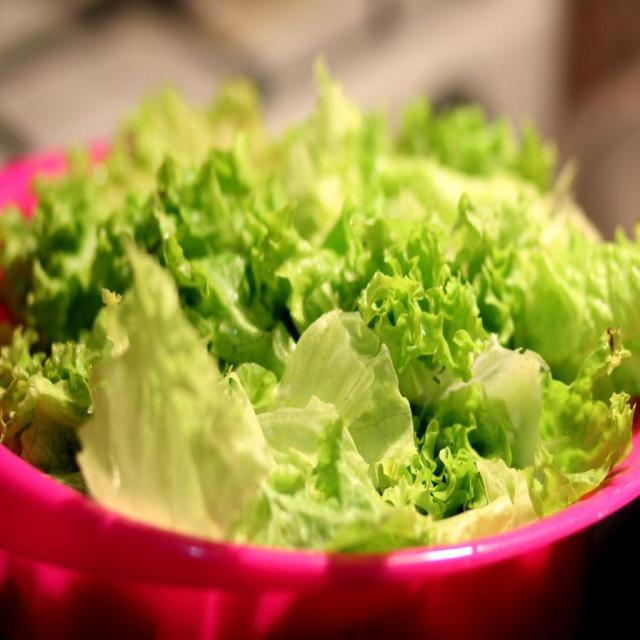Lettuce: (19, 105, 606, 466)
